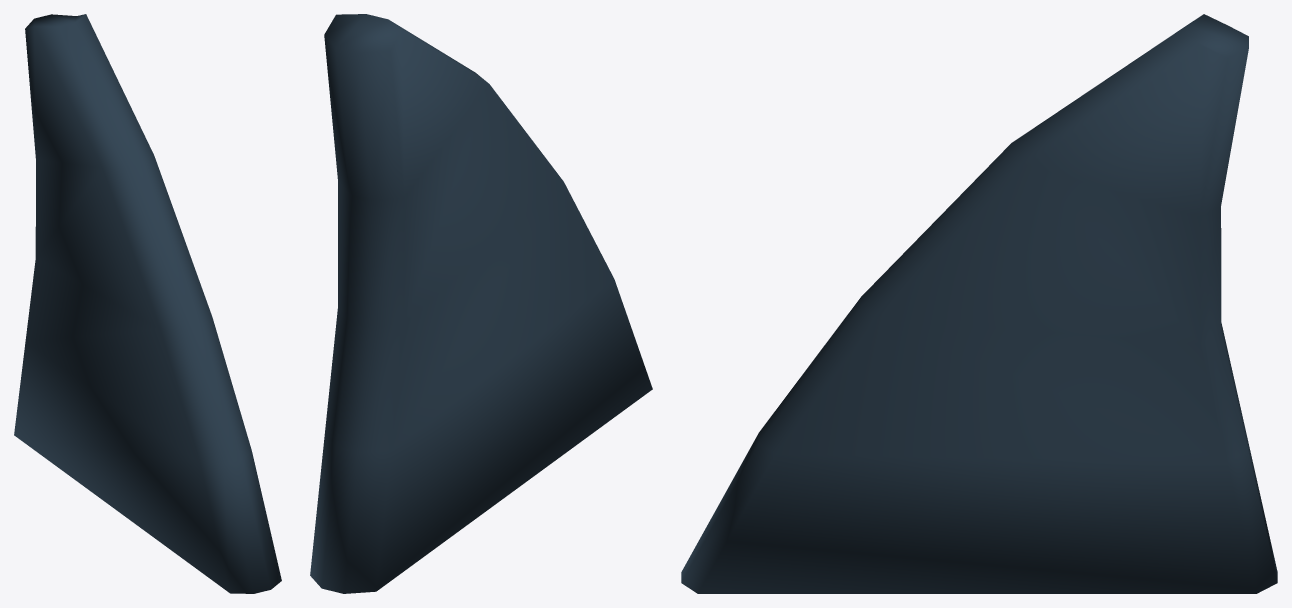
The model's file is shark_symbol.fbx.
3 renders of one model, left to right at view 1: azimuth 30°, elevation 25°; view 2: azimuth 150°, elevation 25°; view 3: azimuth 270°, elevation 25°, orthographic. The views are drawn at different scales.
Visible parts, largest first — view 1: Cube.008; view 2: Cube.008; view 3: Cube.008.
Part boxes in pixels (x1,y1,x2,y2): Cube.008: (14,14,281,593); Cube.008: (310,14,652,593); Cube.008: (681,14,1277,593).
Size of the model in its own units: 92.65 by 724 by 715.
